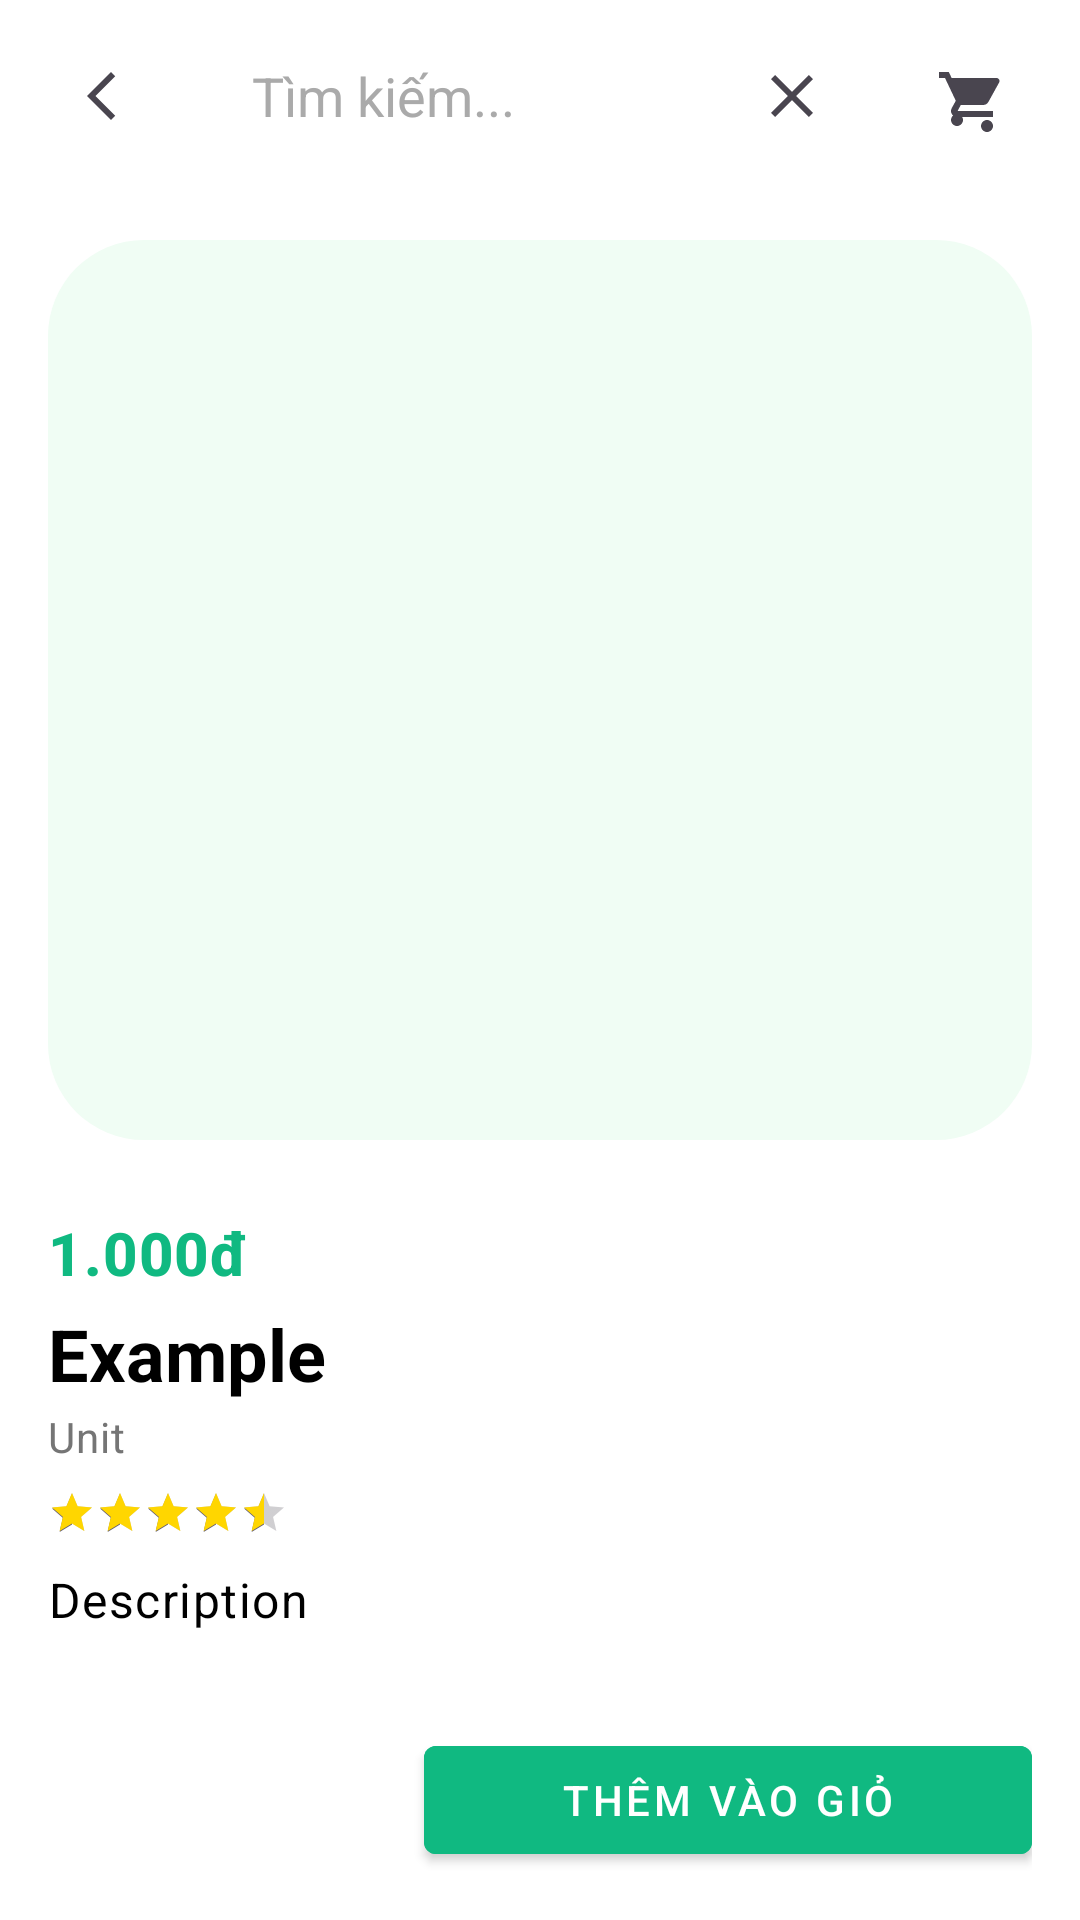

Icons on this 1080w x 1920h Android screen, each with its box as [x1, y1, x2, y2]:
back: [87, 72, 115, 120]
cart: [939, 72, 1000, 132]
Đóng: [771, 75, 813, 117]
